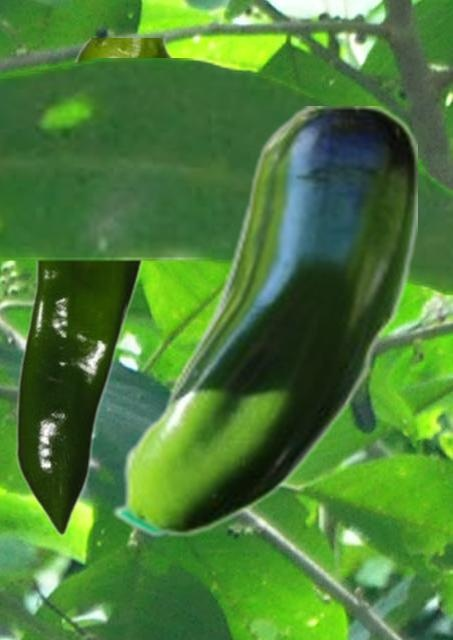green_chili: (110, 106, 416, 538), (14, 38, 175, 535)
